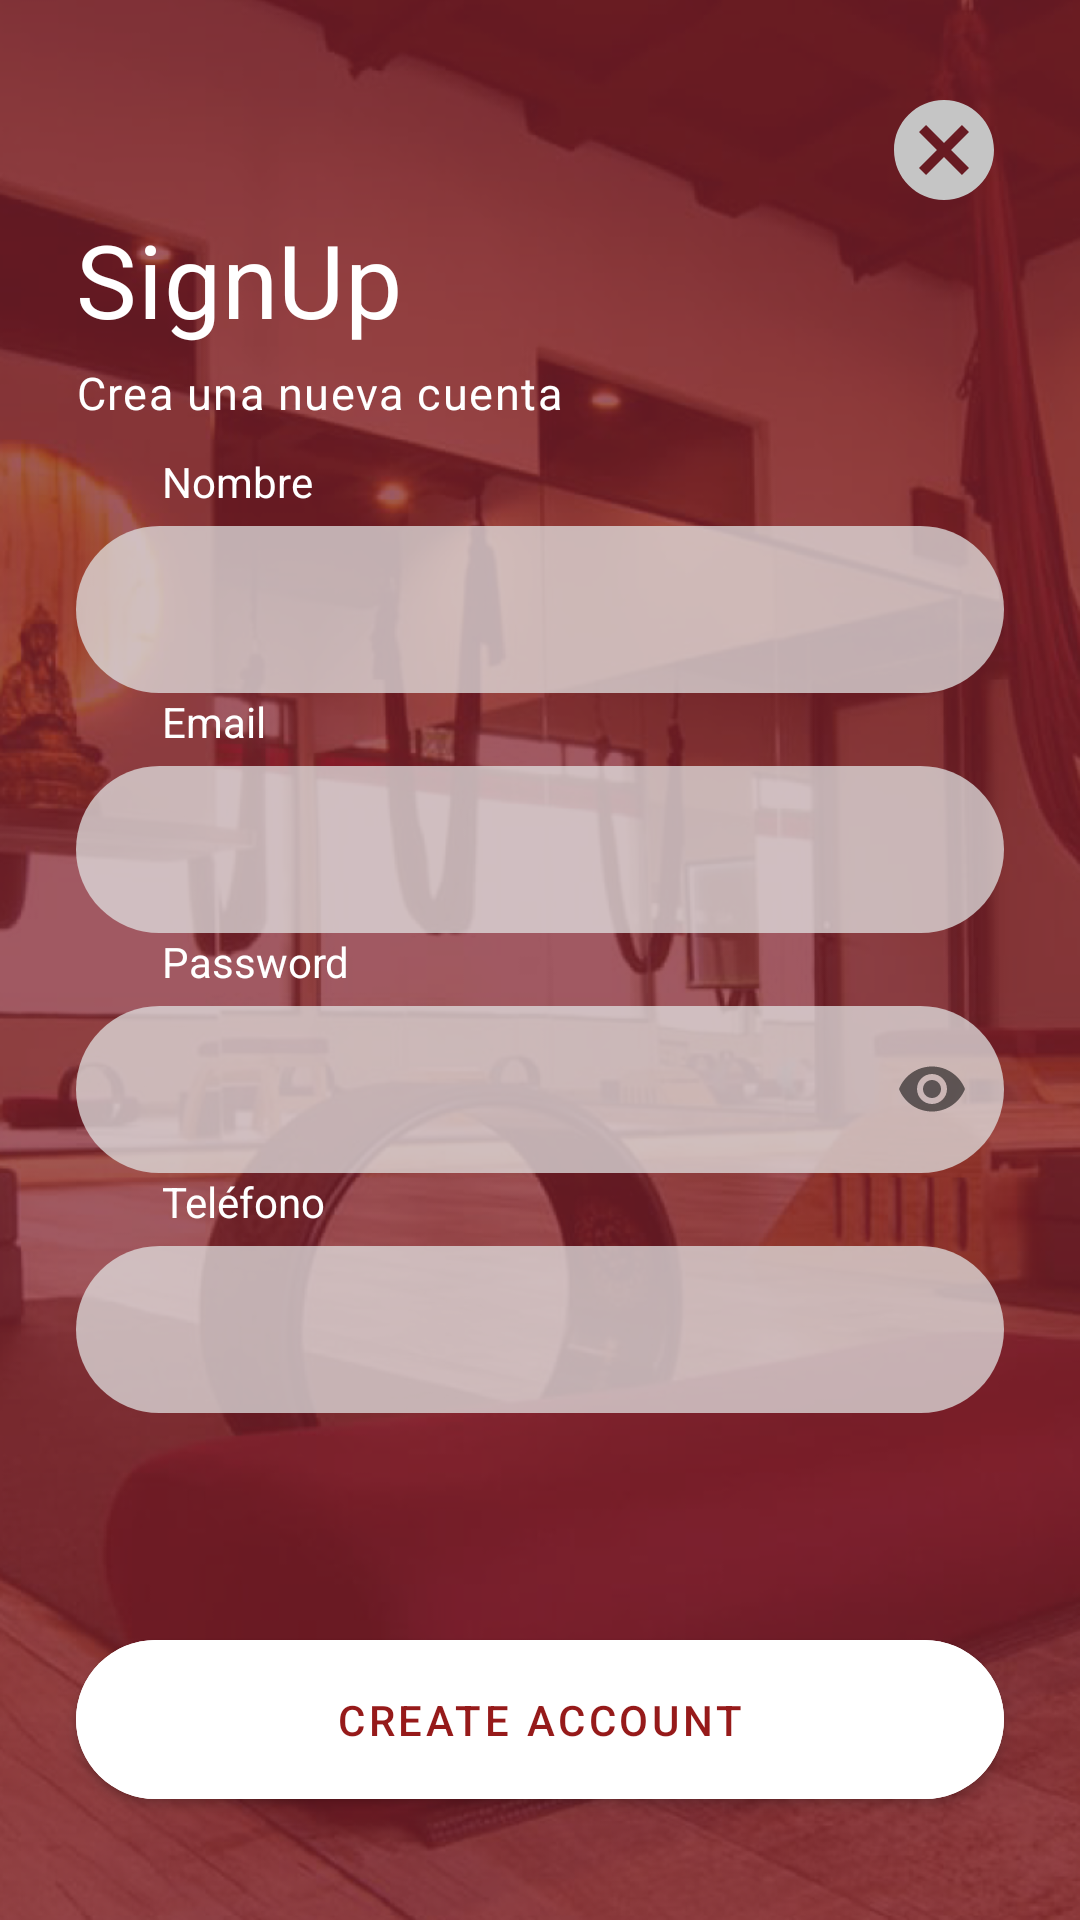

Icons on this 1080×1920 Android screen, each with the point to tap as (x,y):
cancel: (944,150)
